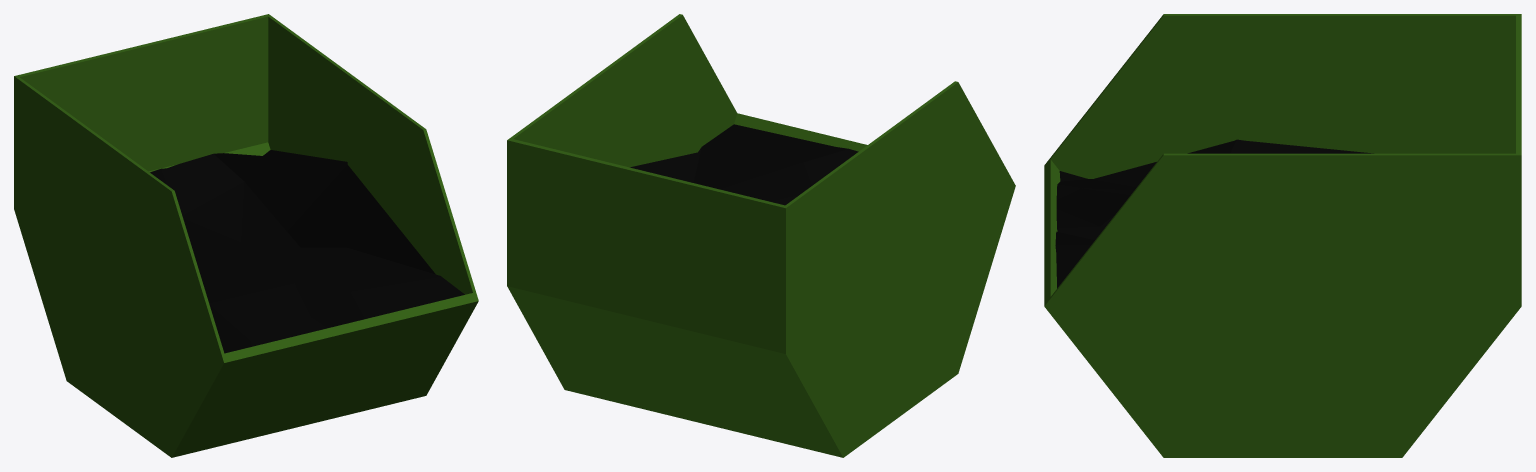
File: Container.glb
The picture shows the model from 3 angles, left to right: view 1: azimuth 30°, elevation 25°; view 2: azimuth 150°, elevation 25°; view 3: azimuth 270°, elevation 25°; orthographic projection. The views are drawn at different scales.
Parts seen in each view (by area): view 1: Cylinder, Plane; view 2: Cylinder, Plane; view 3: Cylinder, Plane.
Boxes of the visible parts, left/top/right/bottom form: Cylinder: left=14, top=14, right=478, bottom=457; Plane: left=150, top=150, right=464, bottom=353; Cylinder: left=507, top=14, right=1015, bottom=457; Plane: left=630, top=124, right=858, bottom=205; Cylinder: left=1044, top=14, right=1521, bottom=457; Plane: left=1055, top=139, right=1373, bottom=288.
Size of the model in its own units: 1.4 by 1.4 by 2.
